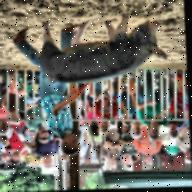boar: (38, 13, 169, 85)
